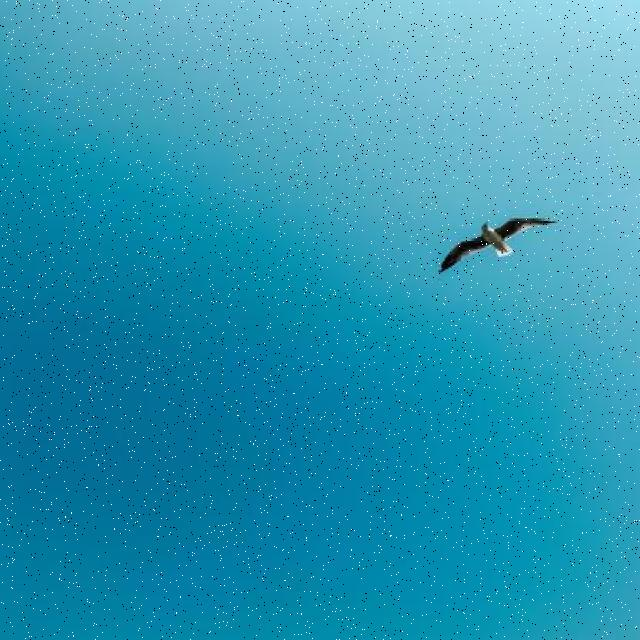bird: (437, 216, 557, 272)
